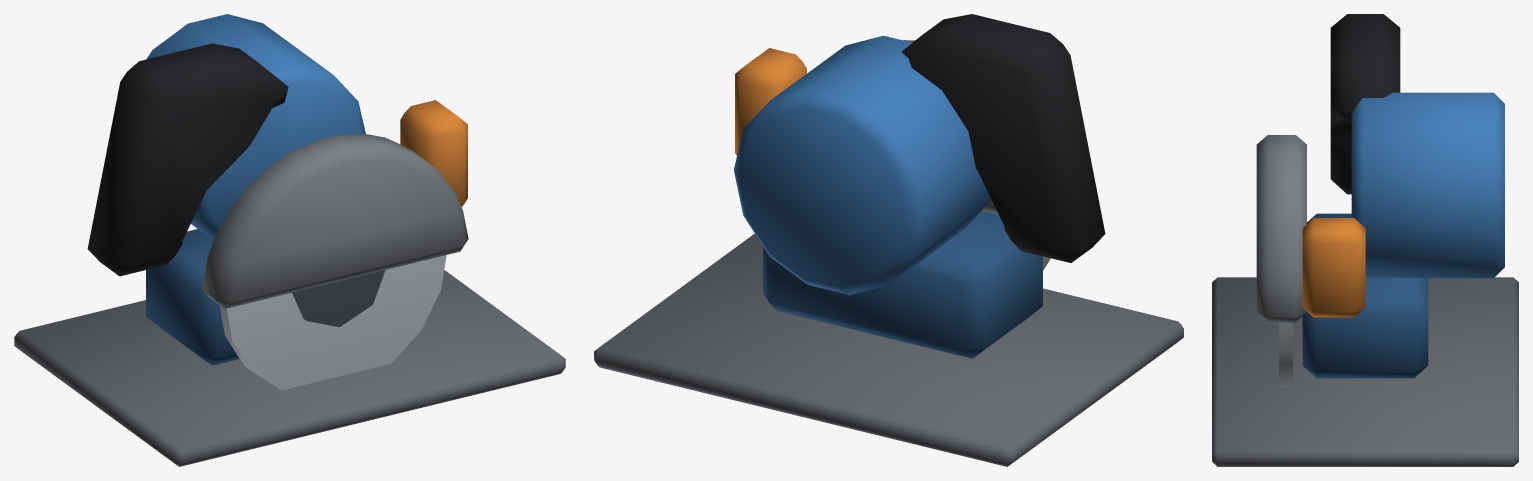
Rendered from SM_CircularSaw_01.glb.
3 views of the same model, side by side, from view 1: azimuth 30°, elevation 25°; view 2: azimuth 150°, elevation 25°; view 3: azimuth 270°, elevation 25° (orthographic). The views are drawn at different scales.
Parts seen in each view (by area): view 1: SM_CircularSaw_01; view 2: SM_CircularSaw_01; view 3: SM_CircularSaw_01.
Part boxes in pixels (box(x1,y1,x2,y2)): SM_CircularSaw_01: box(14, 14, 565, 466); SM_CircularSaw_01: box(594, 14, 1183, 466); SM_CircularSaw_01: box(1212, 14, 1518, 466).
Bounding box in the file's own units: 0.3 × 0.24 × 0.22.
1 material, 1 textured.
